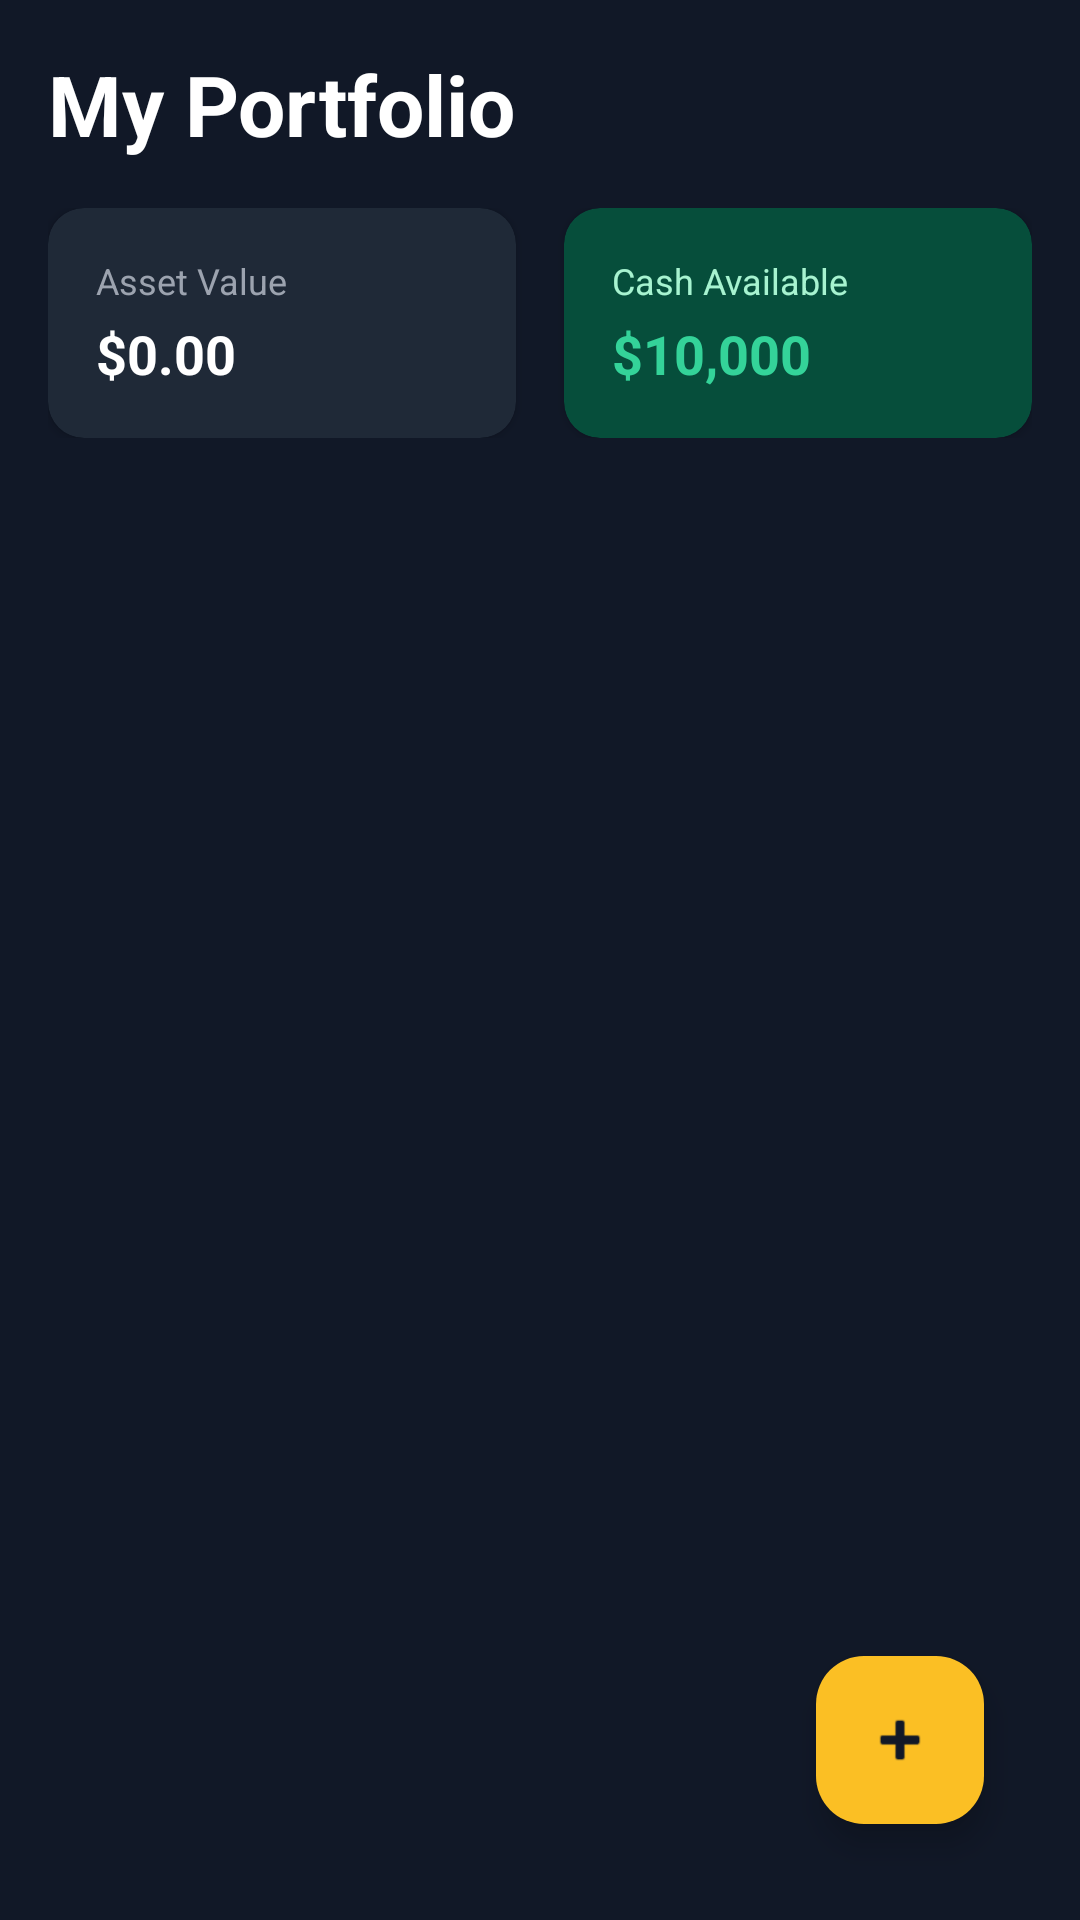

Icons on this 1080px x 1920px Android screen, each with the point to tap as (x,y):
add: (900,1740)
